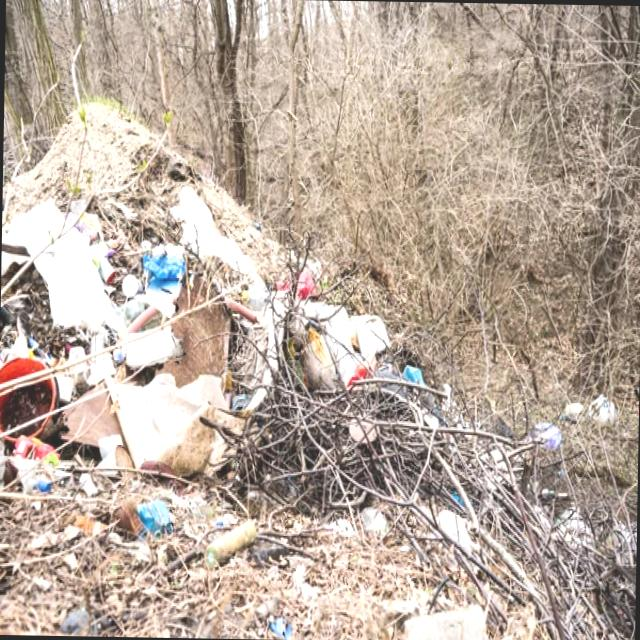garbage: (18, 94, 501, 598)
